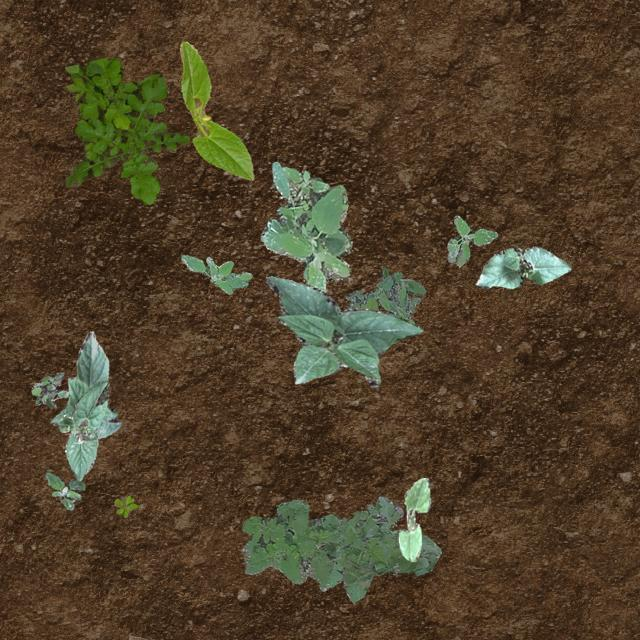crop: (264, 274, 422, 386), (178, 40, 252, 180), (48, 330, 120, 438), (58, 380, 109, 480), (474, 246, 570, 288), (398, 476, 428, 560)
weed: (240, 496, 440, 602), (64, 56, 188, 202), (260, 160, 350, 292), (344, 266, 424, 324), (180, 254, 250, 292), (446, 214, 496, 266), (44, 472, 84, 508), (31, 370, 68, 408), (114, 494, 136, 516)
